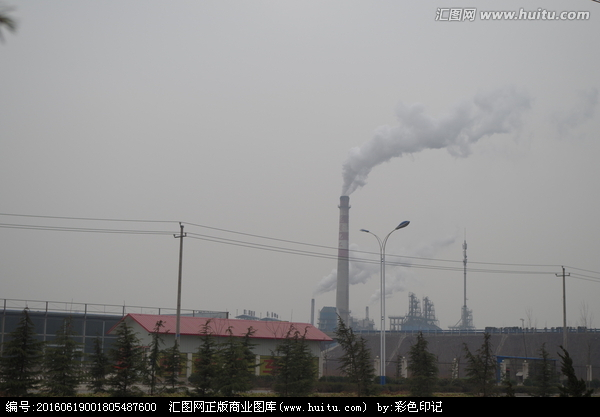dust: (328, 83, 511, 204), (296, 233, 422, 308)
